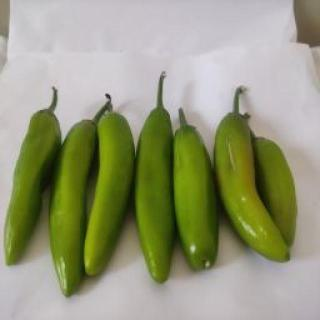Cabai Hijau: (212, 83, 295, 272), (4, 84, 64, 270), (133, 69, 179, 293)
